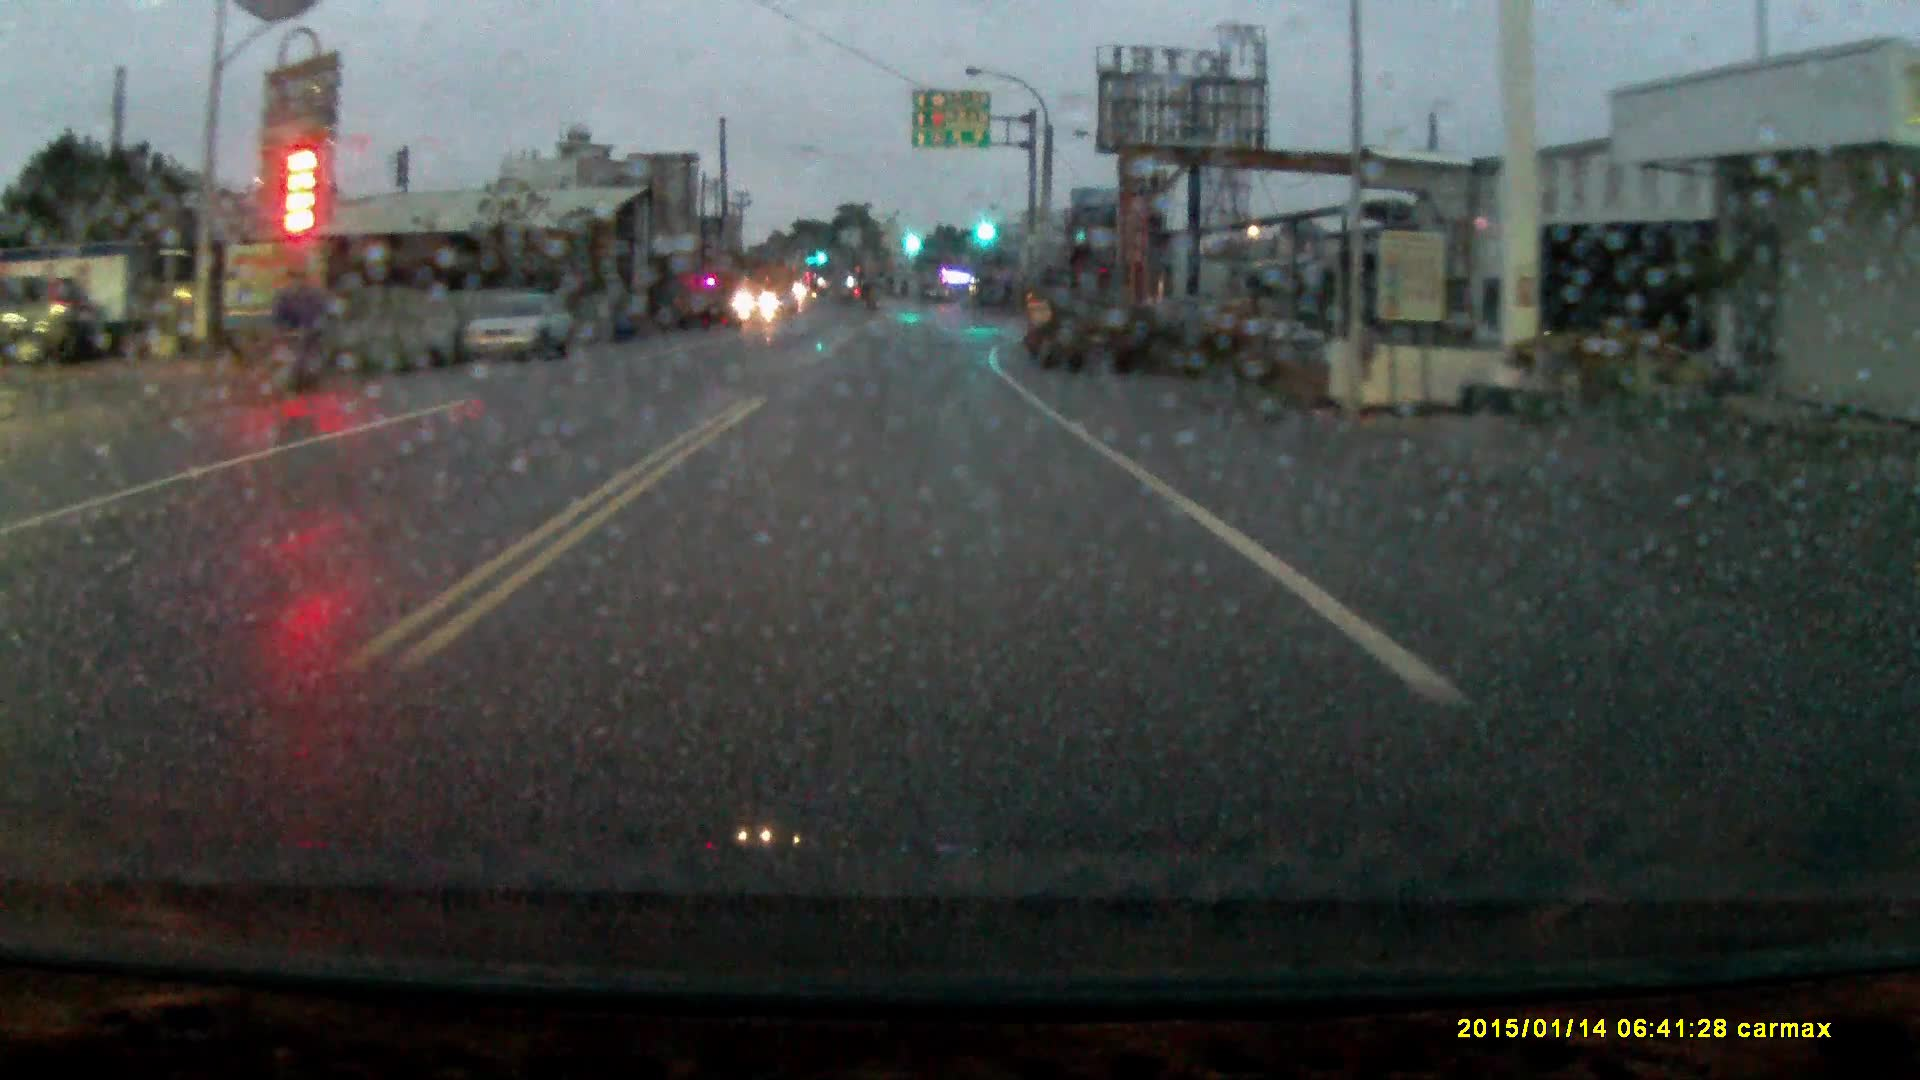rider: (238, 251, 341, 440)
vehicle: (1025, 262, 1131, 375), (1, 275, 123, 370), (461, 293, 582, 361)
